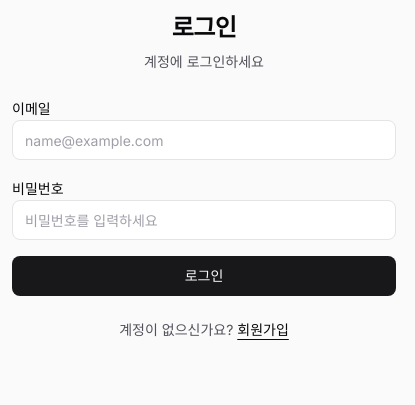
Test: Login › 빈 폼 제출 시 유효성 검증 에러가 표시된다
The image size is (415, 405).
What coordinates should you click on to do the following:
click the button "로그인"
I would click on:
 (204, 276)
Its box is x1=12 y1=256 x2=396 y2=296.
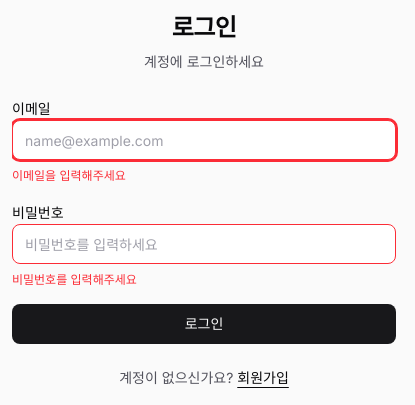
Now the text "이메일을 입력해주세요" is shown, box x1=12 y1=168 x2=126 y2=183
